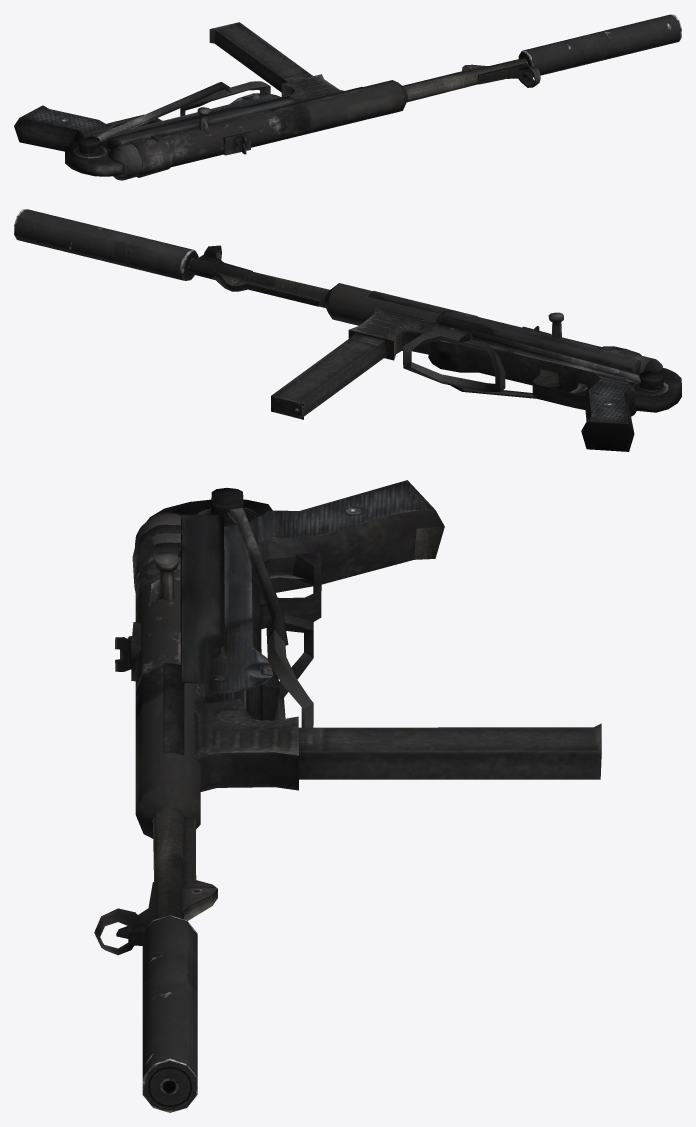
File: weapon_ger_mp40_smg_silent_LOD01.obj
The picture shows the model from 3 angles, top to bottom: view 1: azimuth 30°, elevation 25°; view 2: azimuth 150°, elevation 25°; view 3: azimuth 270°, elevation 25°; orthographic projection. The views are drawn at different scales.
Visible parts, largest first — view 1: TomGroup_0, TomGroup_1; view 2: TomGroup_0, TomGroup_1; view 3: TomGroup_0, TomGroup_1.
Part boxes in pixels (x1,y1,x2,y2): TomGroup_0: [14, 22, 540, 180]; TomGroup_1: [518, 14, 681, 77]; TomGroup_0: [187, 245, 681, 451]; TomGroup_1: [14, 209, 198, 280]; TomGroup_0: [94, 480, 601, 955]; TomGroup_1: [142, 915, 197, 1112].
Bounding box in the file's own units: 81.78 × 8.2 × 29.89.
Materials: 2 (2 with a texture image).
